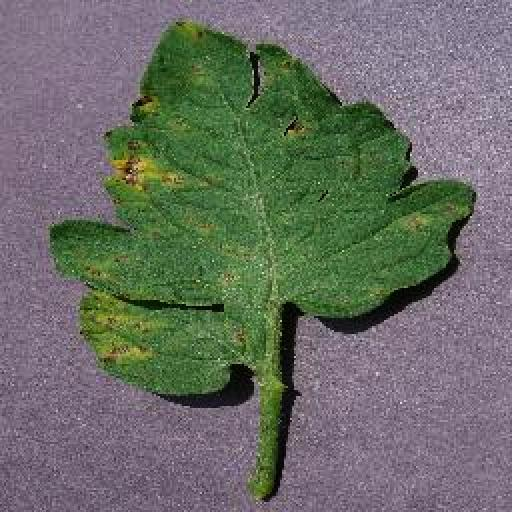disease_tomato: (47, 18, 477, 400)
